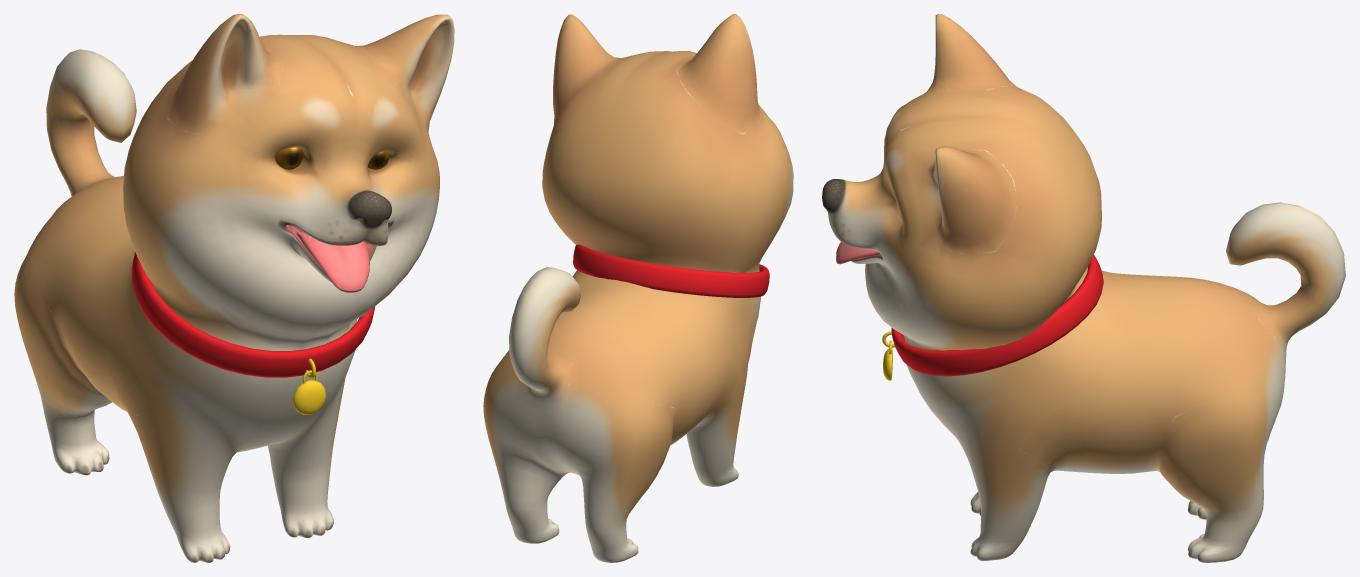
Rendered from shibainu_posed.glb.
The picture shows the model from 3 angles, left to right: view 1: azimuth 30°, elevation 25°; view 2: azimuth 150°, elevation 25°; view 3: azimuth 270°, elevation 25°; orthographic projection. The views are drawn at different scales.
Parts seen in each view (by area): view 1: body_Circle, collar_Circle.005; view 2: body_Circle, collar_Circle.005; view 3: body_Circle, collar_Circle.005.
Part boxes in pixels (x1,y1,x2,y2): body_Circle: (14, 14, 454, 562); collar_Circle.005: (131, 251, 375, 414); body_Circle: (483, 14, 793, 562); collar_Circle.005: (573, 244, 769, 297); body_Circle: (822, 14, 1345, 562); collar_Circle.005: (882, 255, 1103, 380).
Bounding box in the file's own units: 0.2137 × 0.393 × 0.3724.
Materials: 4 (4 with a texture image).
